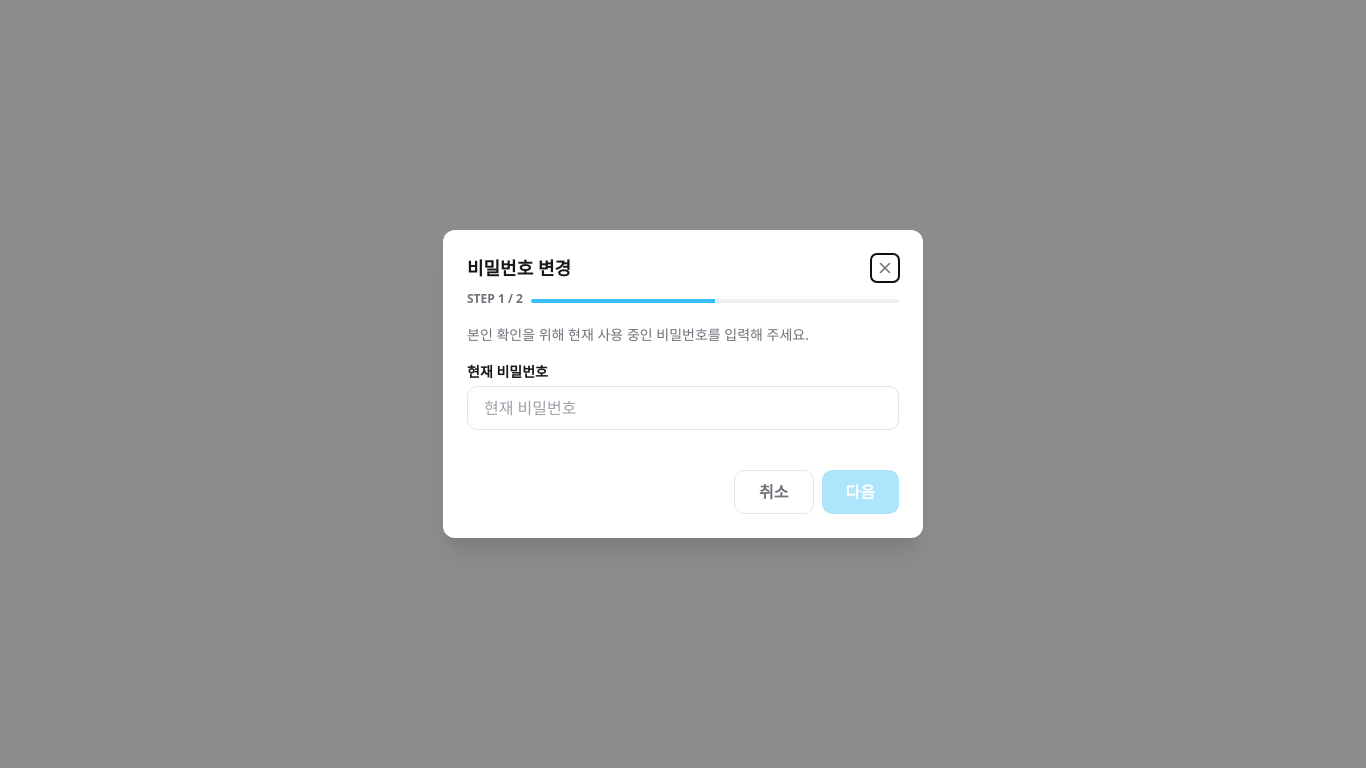
Test case: PasswordChangeModal › 제출 중(isSubmitting) 상태 › isSubmitting=true 이면 STEP 2 에서 [변경하기] 버튼 텍스트가 "변경 중..." 으로 바뀐다
This screenshot has width=1366, height=768.
Type "currentPass123" into the password field labelled "현재 비밀번호" at x=683, y=408, box [467, 386, 899, 430]
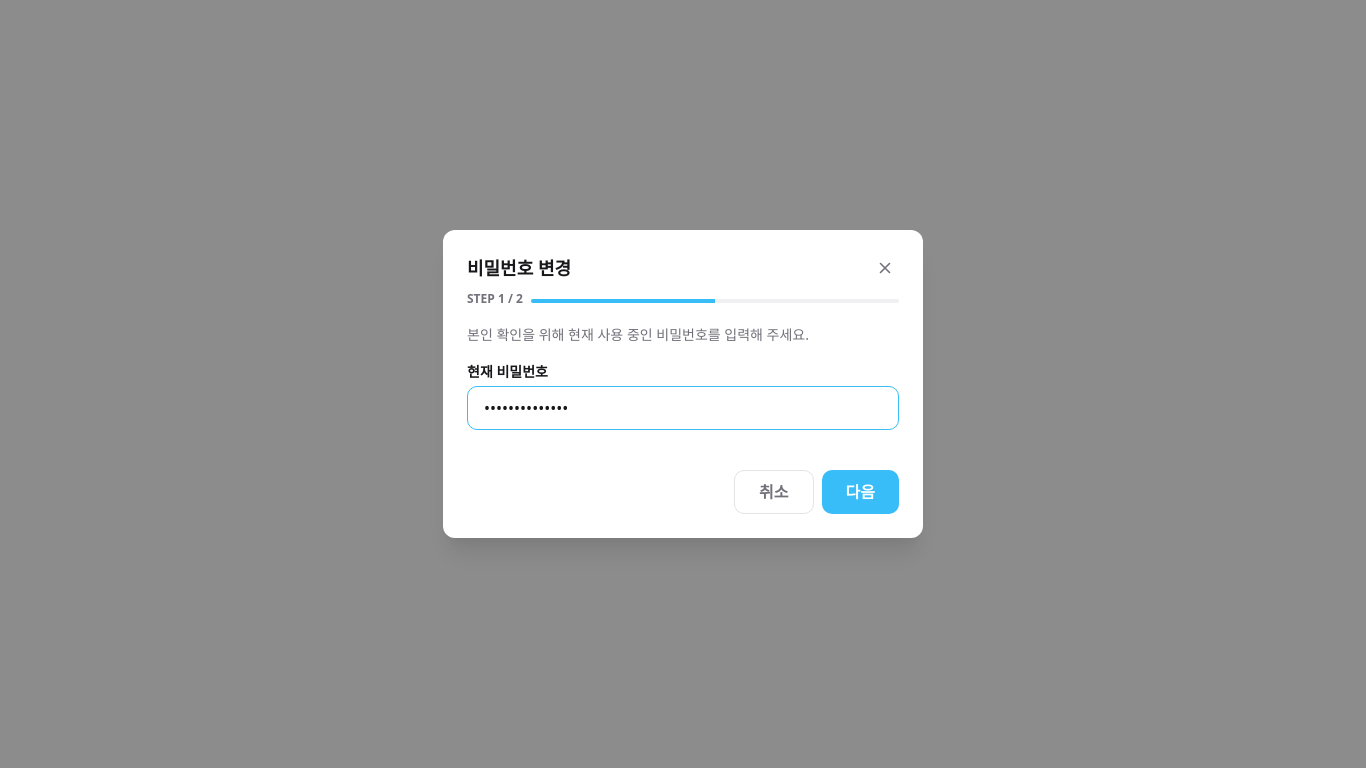
Click the button "다음" at x=860, y=492, box [822, 470, 899, 514]
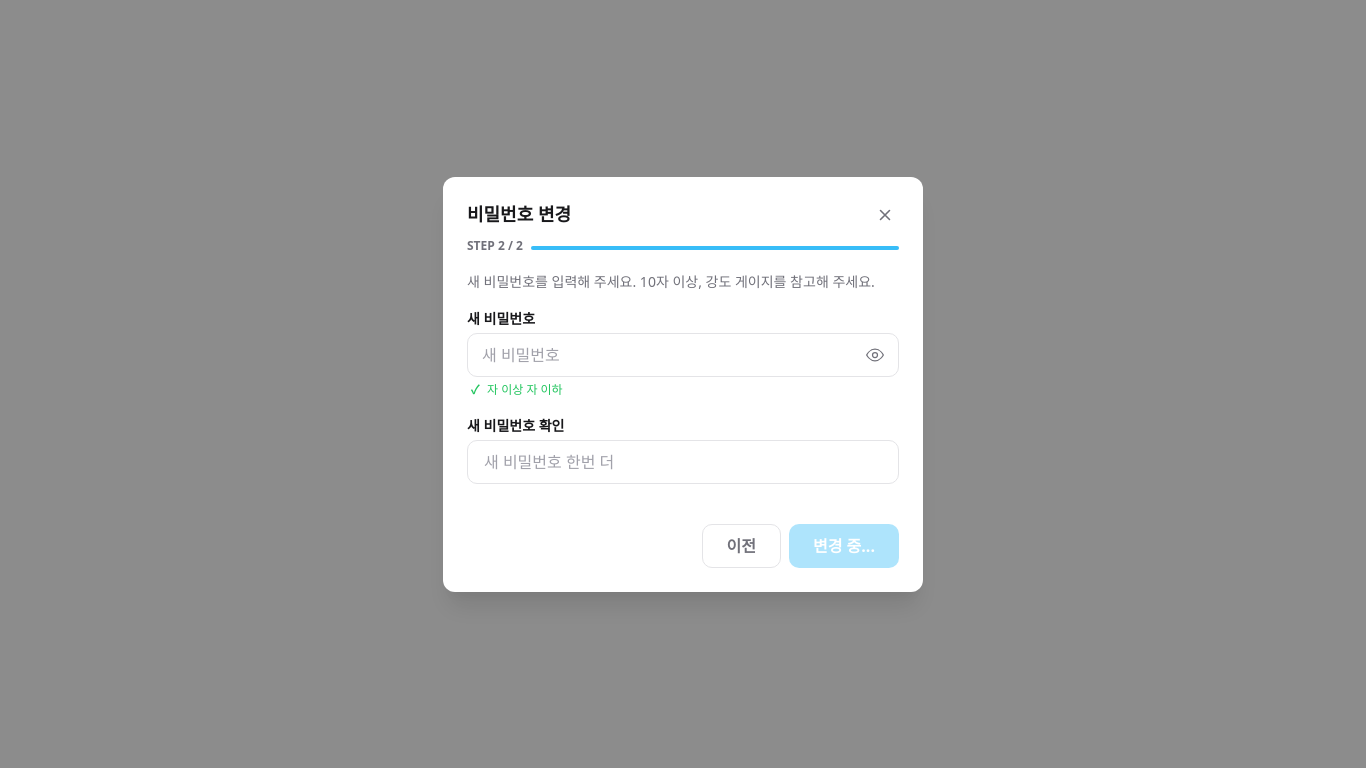
Now the button "변경 중..." is shown, box [789, 524, 899, 568]
